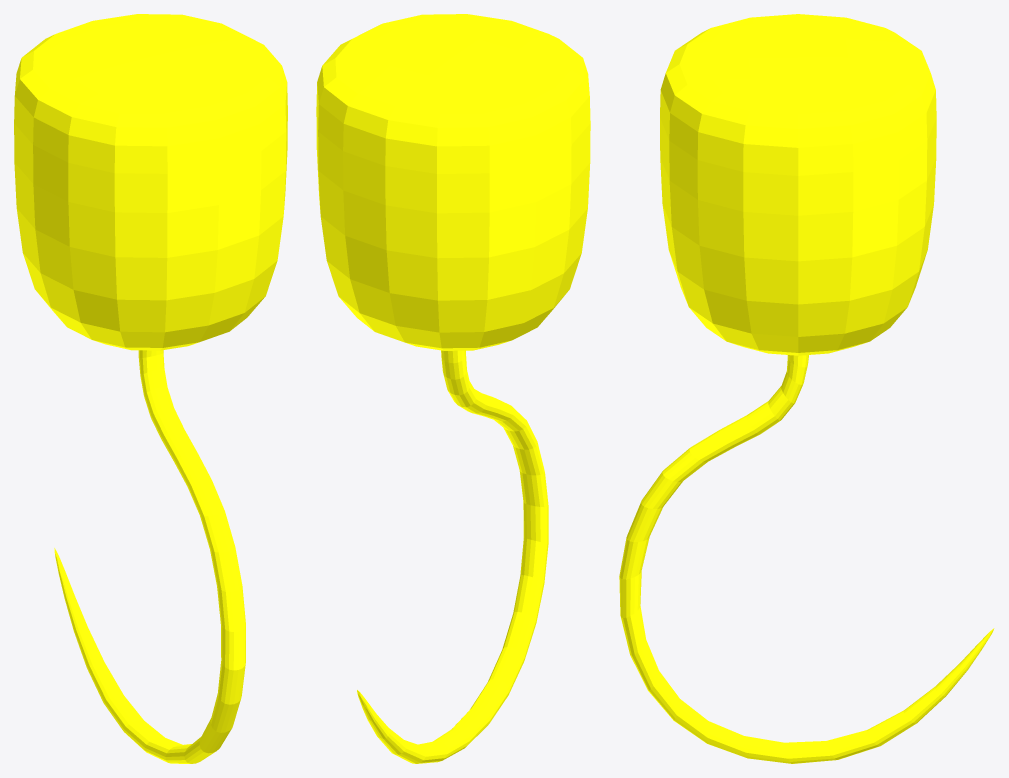
File: ModelCruk.fbx
3 views of the same model, side by side, from view 1: azimuth 30°, elevation 25°; view 2: azimuth 150°, elevation 25°; view 3: azimuth 270°, elevation 25° (orthographic).
Parts seen in each view (by area): view 1: Cube; view 2: Cube; view 3: Cube.
Part boxes in pixels (x1,y1,x2,y2): Cube: (14, 14, 287, 763); Cube: (316, 14, 590, 763); Cube: (619, 14, 994, 763).
Size of the model in its own units: 45.13 by 127 by 61.17.
